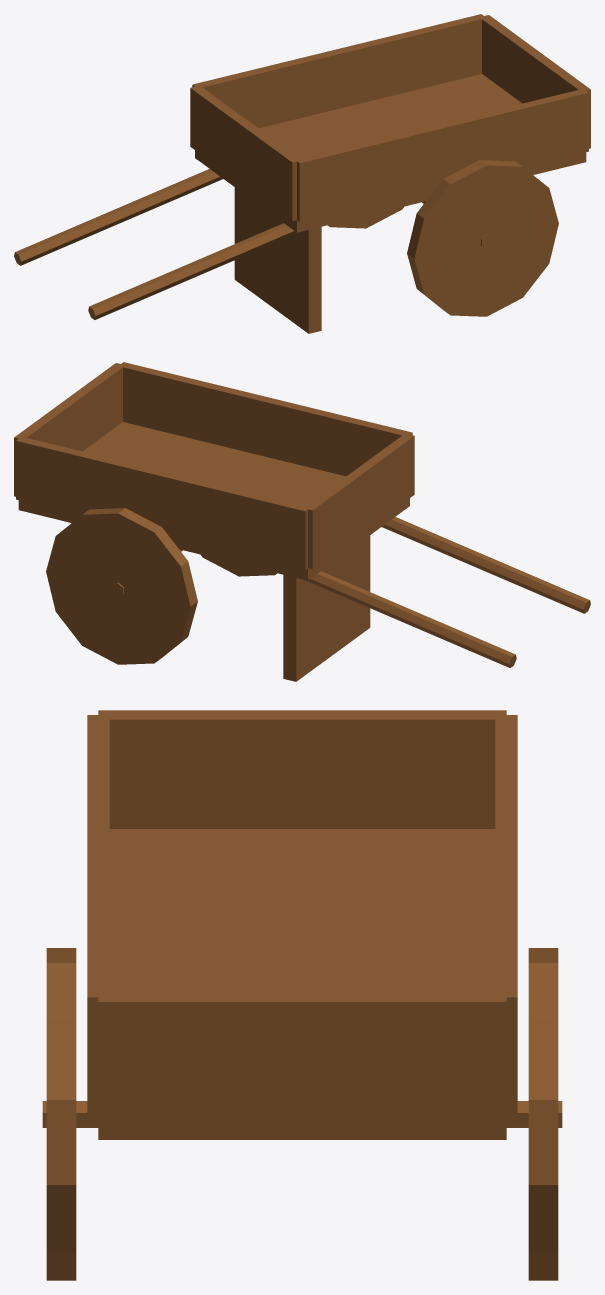
The model's file is SM_Cart_01.fbx.
The picture shows the model from 3 angles, top to bottom: view 1: azimuth 30°, elevation 25°; view 2: azimuth 150°, elevation 25°; view 3: azimuth 270°, elevation 25°; orthographic projection. The views are drawn at different scales.
Parts seen in each view (by area): view 1: SM_Cart_01; view 2: SM_Cart_01; view 3: SM_Cart_01.
Boxes of the visible parts, x1,y1,x2,y2 form: SM_Cart_01: (14,14,590,333); SM_Cart_01: (14,362,590,681); SM_Cart_01: (42,710,562,1280).
Size of the model in its own units: 3.03 by 1.12 by 1.4.
